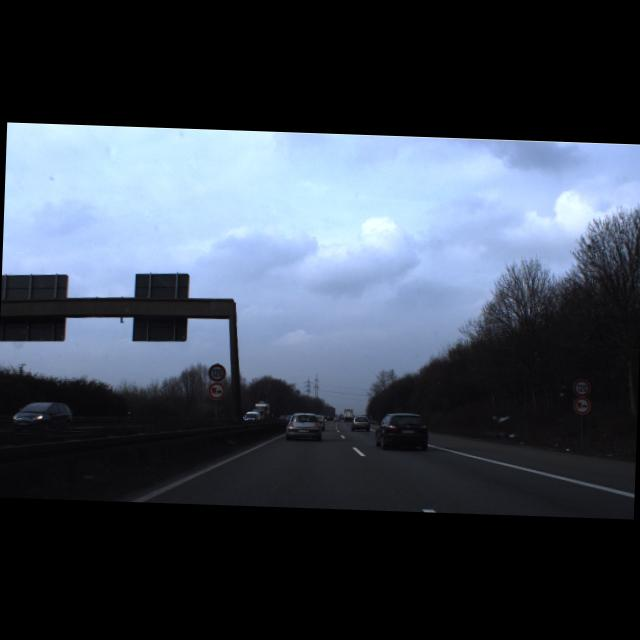prohibitory: (206, 362, 226, 382), (206, 381, 225, 400), (572, 378, 590, 397), (572, 396, 590, 414)
